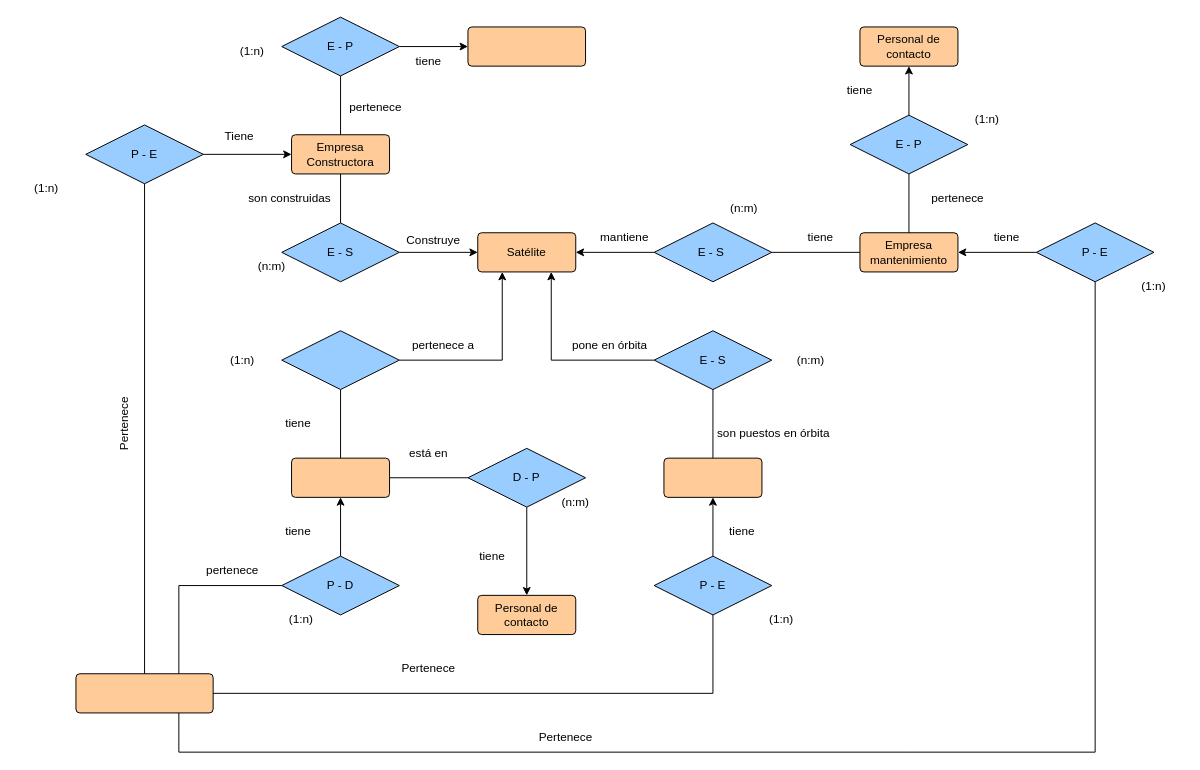
Some shapes in this 1200 by 770 pixel diagram are drawn without their labels. The centre of each missing label's shape, as x and y in pixels:
D - S: (x=340, y=360)
Datos de lanzamiento: (x=340, y=477)
Empresa puesta en órbita: (x=712, y=477)
País: (x=144, y=693)
Personal de empresa constructora: (x=526, y=46)
